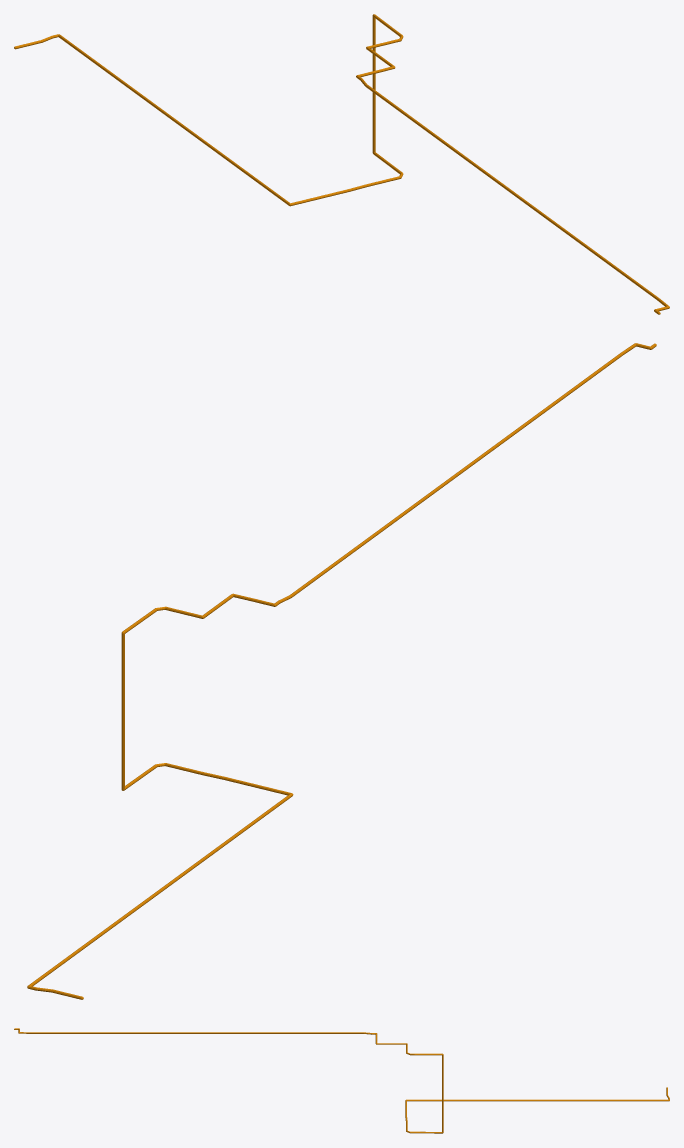
3 views of the same model, one above another, from view 1: azimuth 30°, elevation 25°; view 2: azimuth 150°, elevation 25°; view 3: azimuth 270°, elevation 25° (orthographic). The views are drawn at different scales.
Size of the model in its own units: 1248 by 1020 by 7611.
